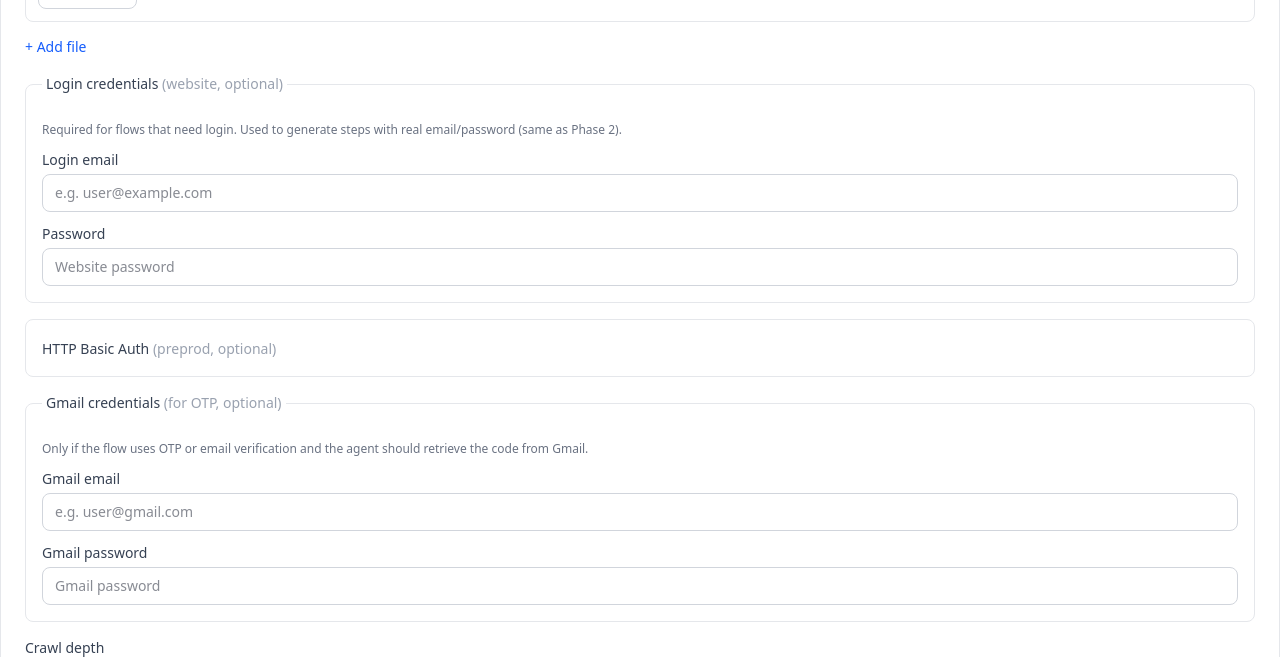
AgentWorkflowTrigger › shows HTTP Basic auth fields when expanded
(page scrolled)
Click the button with test id "http-auth-toggle".
click(159, 349)  # box [42, 339, 276, 359]
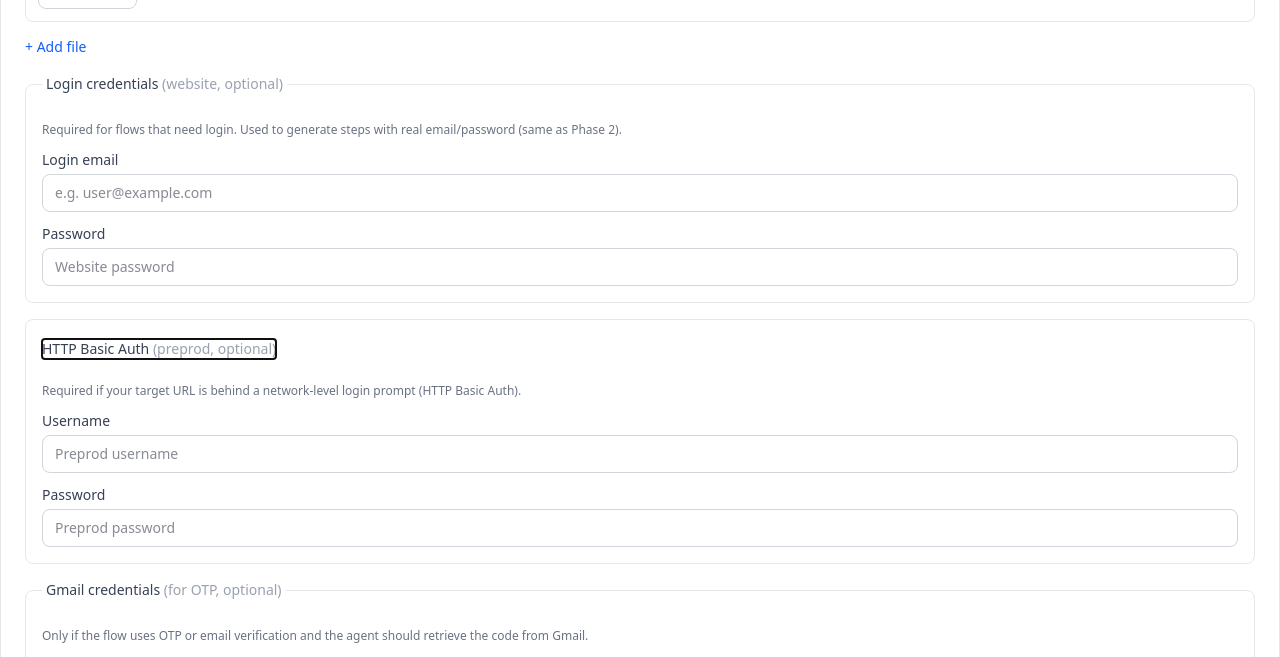
Check: the field with test id "http-username-input" is shown, box [42, 435, 1238, 473]
Check: the password field with test id "http-password-input" is shown, box [42, 509, 1238, 547]
